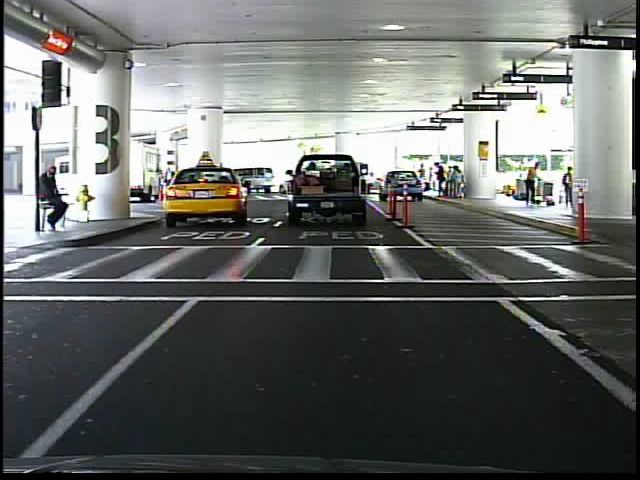person: (40, 160, 74, 231), (522, 158, 545, 210), (561, 162, 574, 208), (418, 161, 430, 196)
